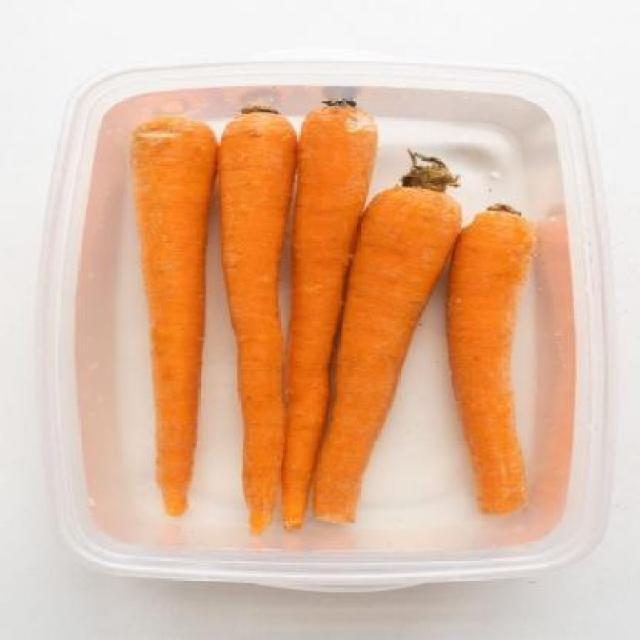carrot: (313, 177, 469, 536), (272, 97, 388, 543), (124, 102, 208, 530), (447, 176, 533, 535), (224, 98, 284, 536)
